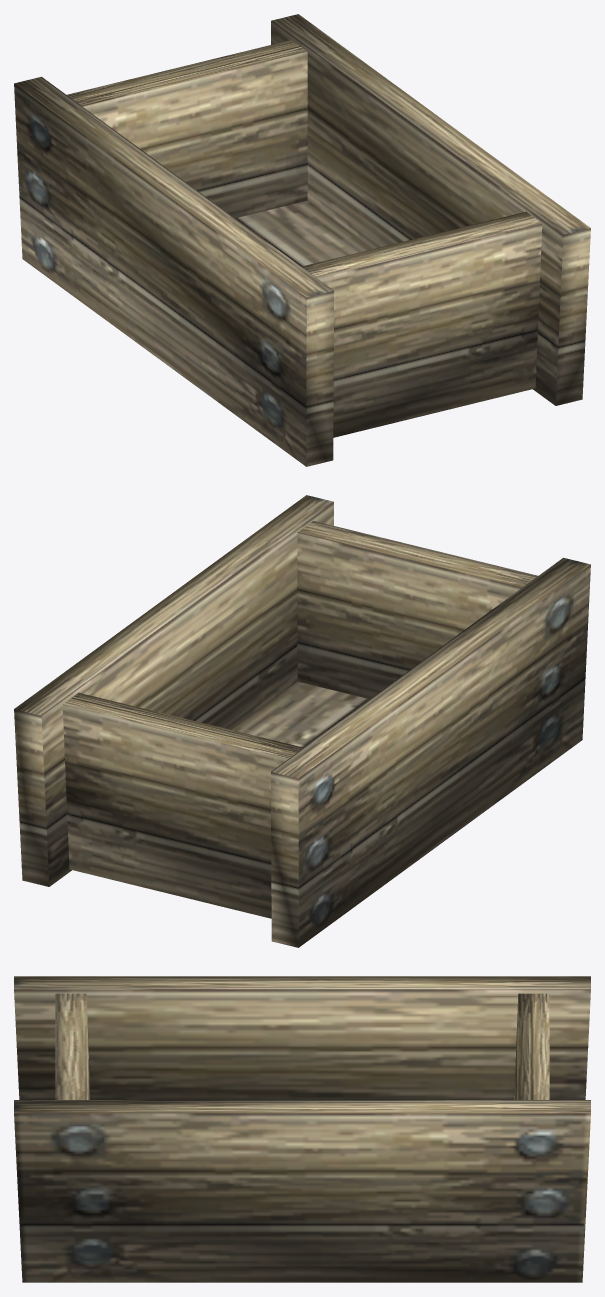
Rendered from westfallcrate.glb.
3 views of the same model, one above another, from view 1: azimuth 30°, elevation 25°; view 2: azimuth 150°, elevation 25°; view 3: azimuth 270°, elevation 25° (orthographic).
Size of the model in its own units: 0.8578 by 0.5 by 1.53.
1 material, 1 textured.
